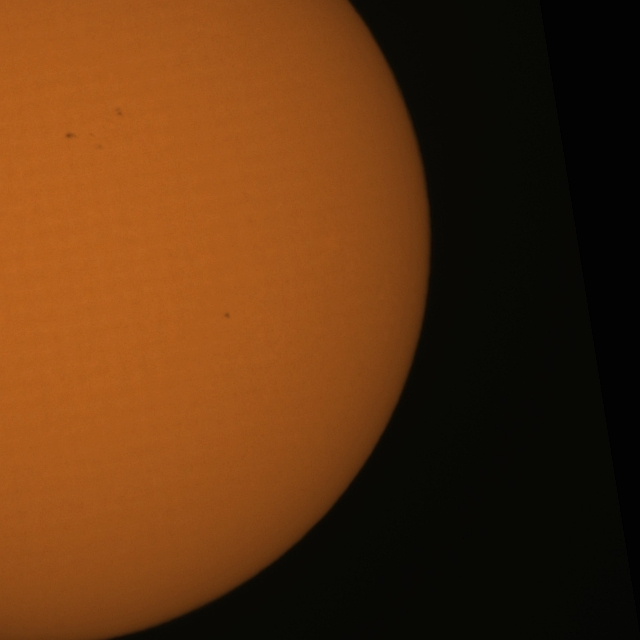sunspot: (64, 131, 78, 140), (114, 106, 124, 118), (222, 311, 232, 320), (88, 132, 95, 139)
